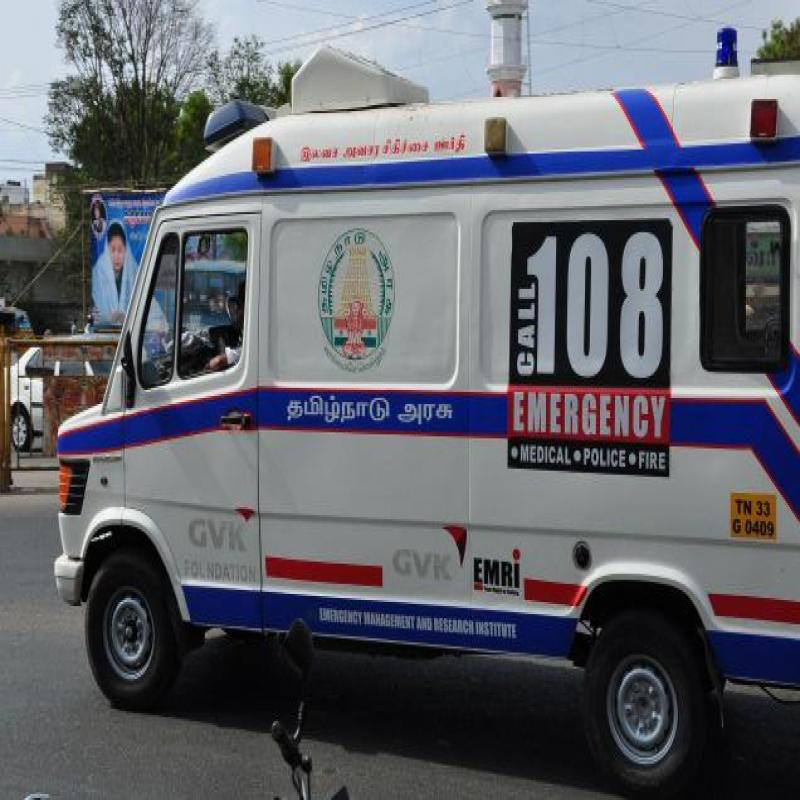ambulance: (64, 123, 800, 762)
